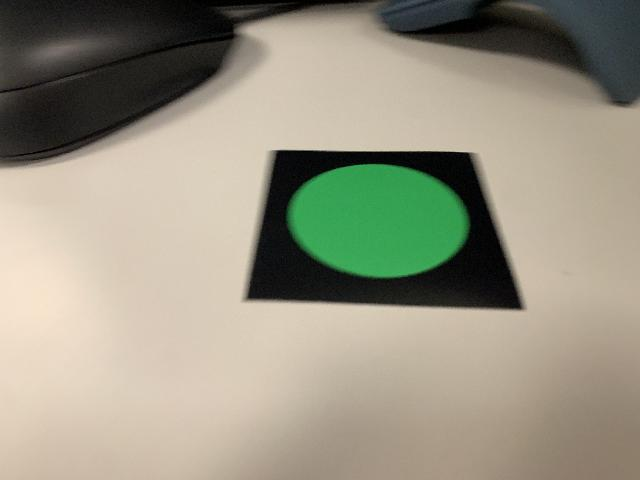go: (237, 146, 530, 319)
